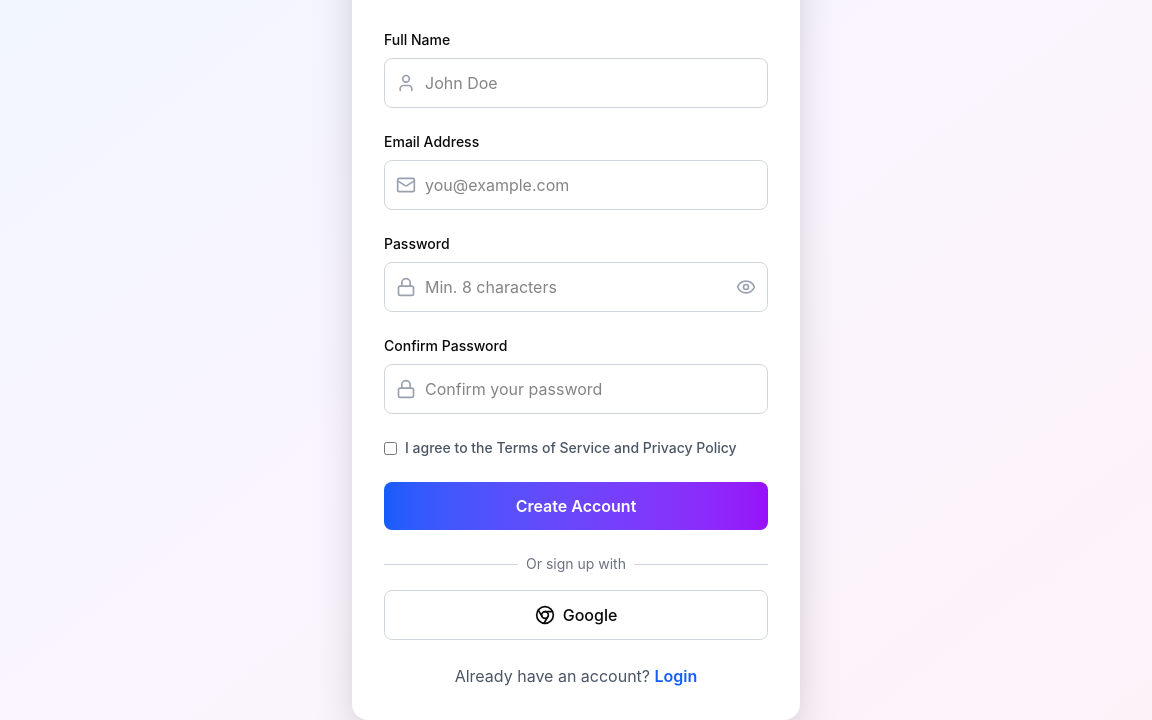
Test: SignupPage - Google flow › flips to 'Set Your Password' for new Google users
(page scrolled)
Step 1. Click the button "Google" → (576, 615), box [384,590,768,640]
(page scrolled)
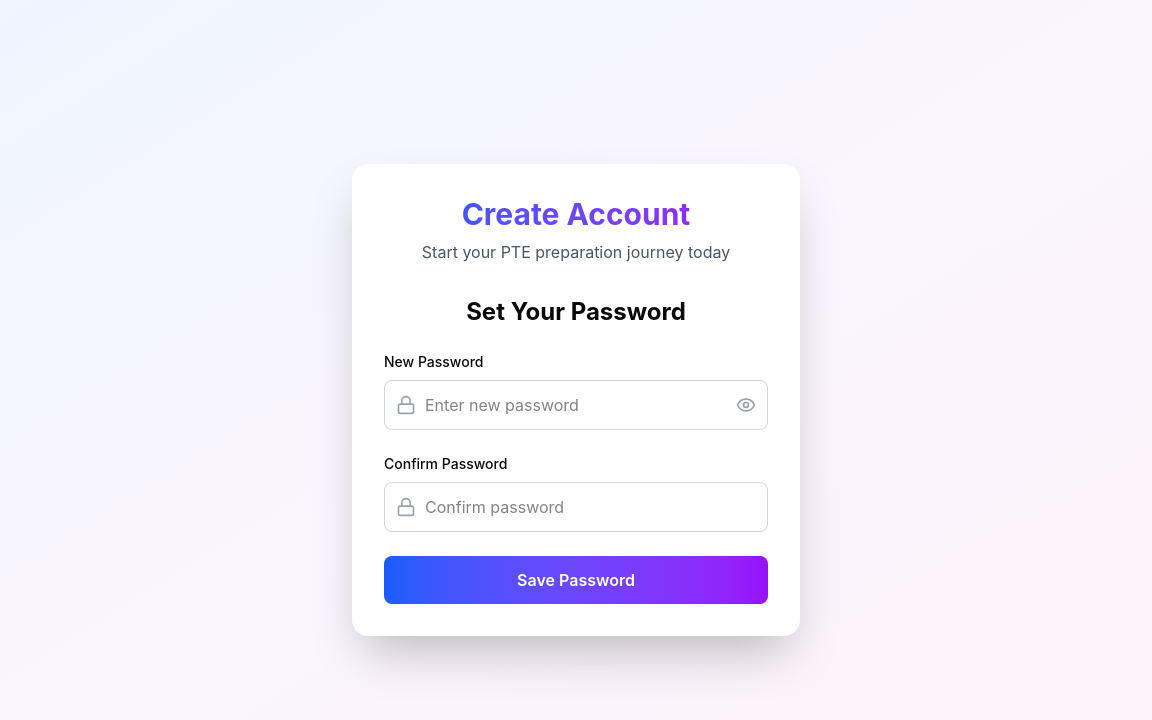
Check: the heading "Set Your Password" is shown, box [466,297,686,326]
